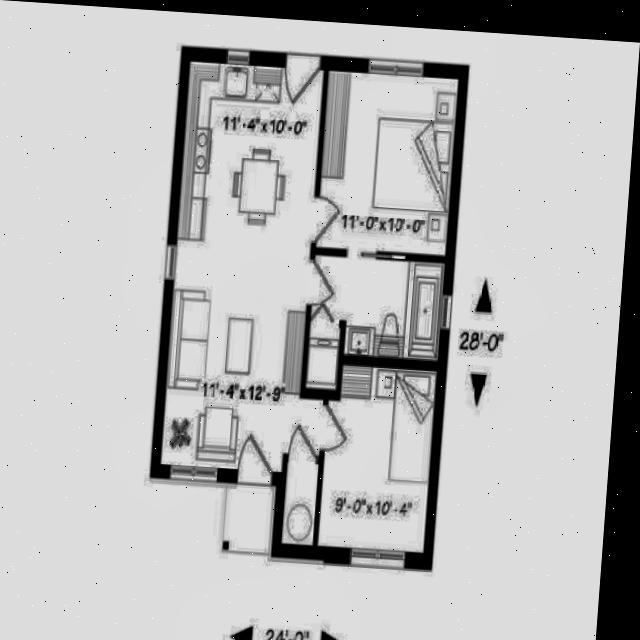room: (161, 61, 343, 474), (316, 71, 458, 256), (317, 363, 437, 554), (306, 255, 445, 396), (282, 463, 319, 546)
